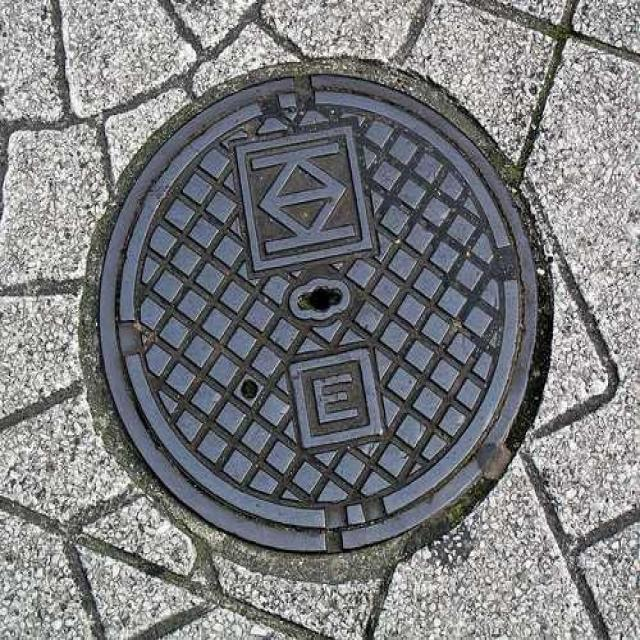manhole: (99, 72, 545, 553)
